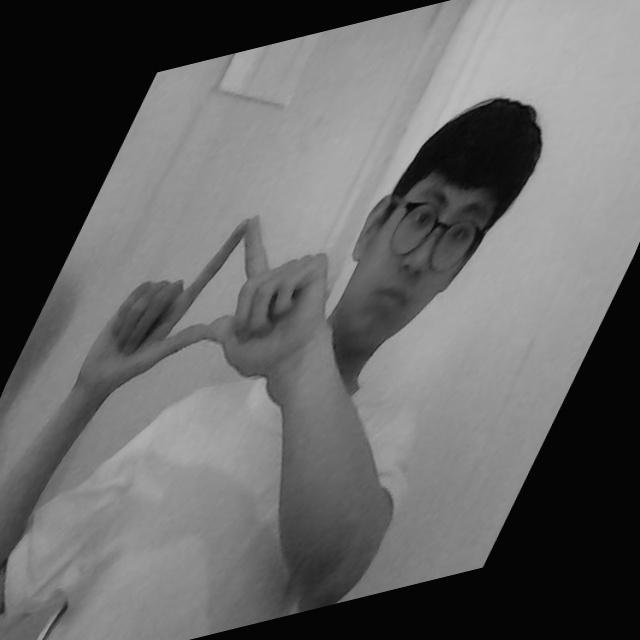A: (128, 202, 334, 388)
